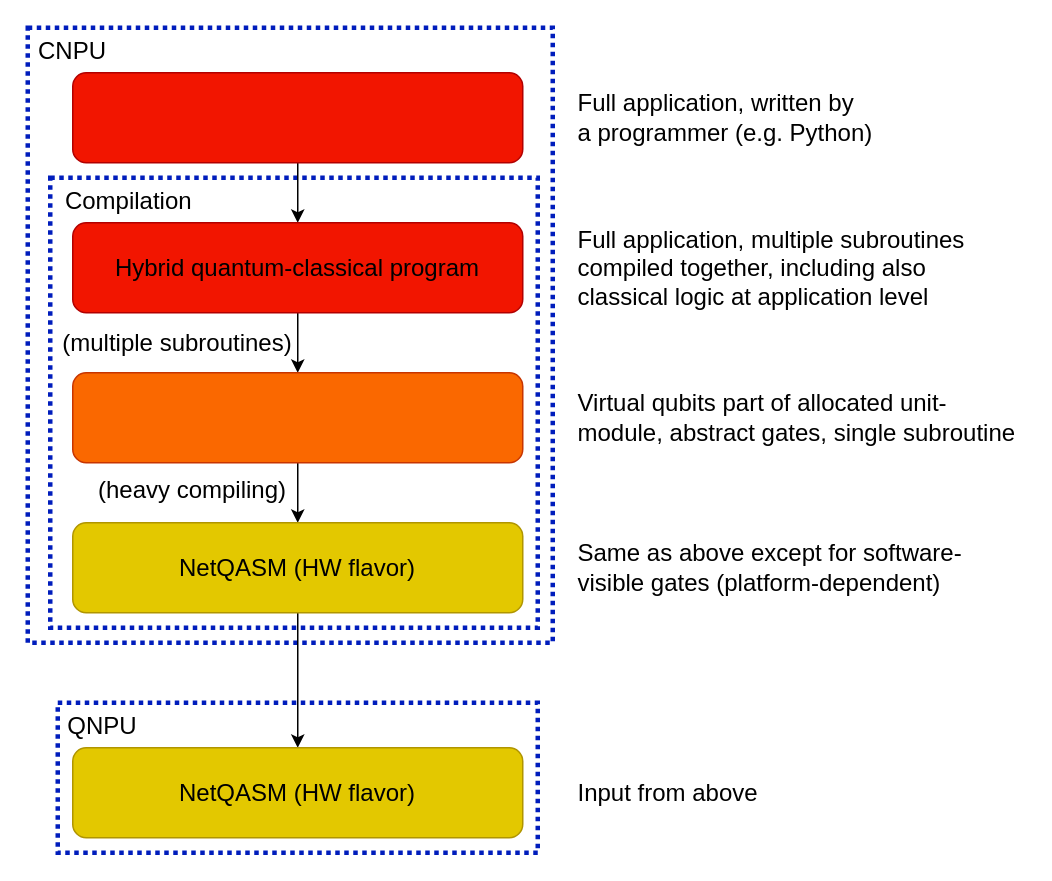
This 1052x881 diagram has some shape labels left out. Here are the shapes that lost their labels. From the top down, the centre of each, then its label:
point 297,117: Higher-level programming language
point 297,417: NetQASM (vanilla flavor)
